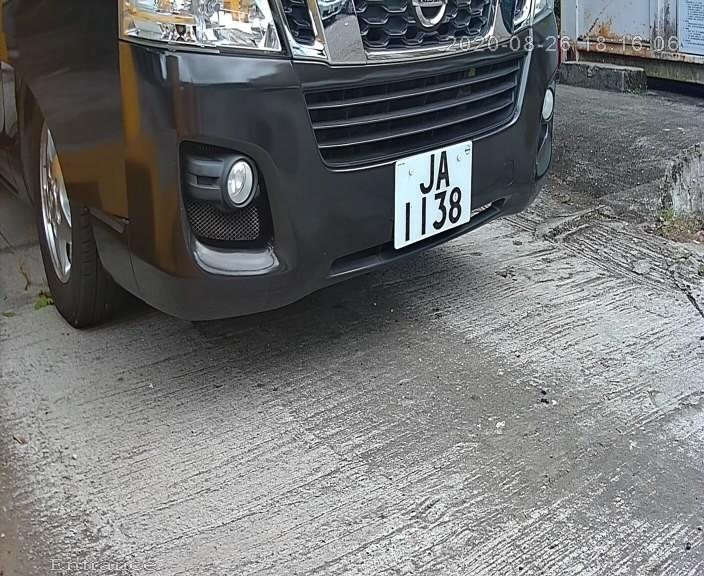Car: (23, 1, 607, 381)
License Plate: (384, 134, 485, 255)
